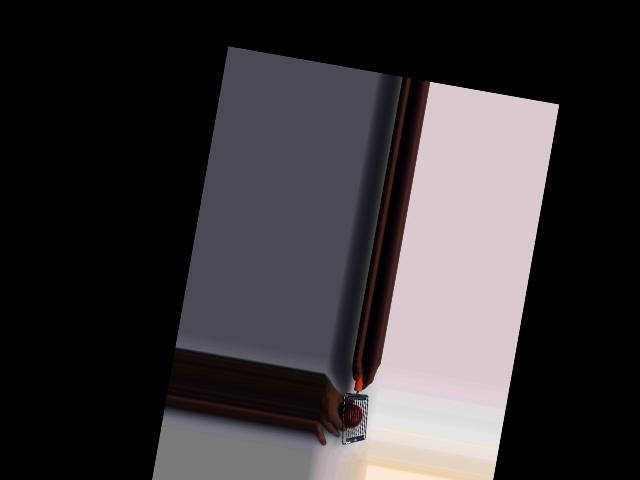tomato: (337, 401, 364, 429)
